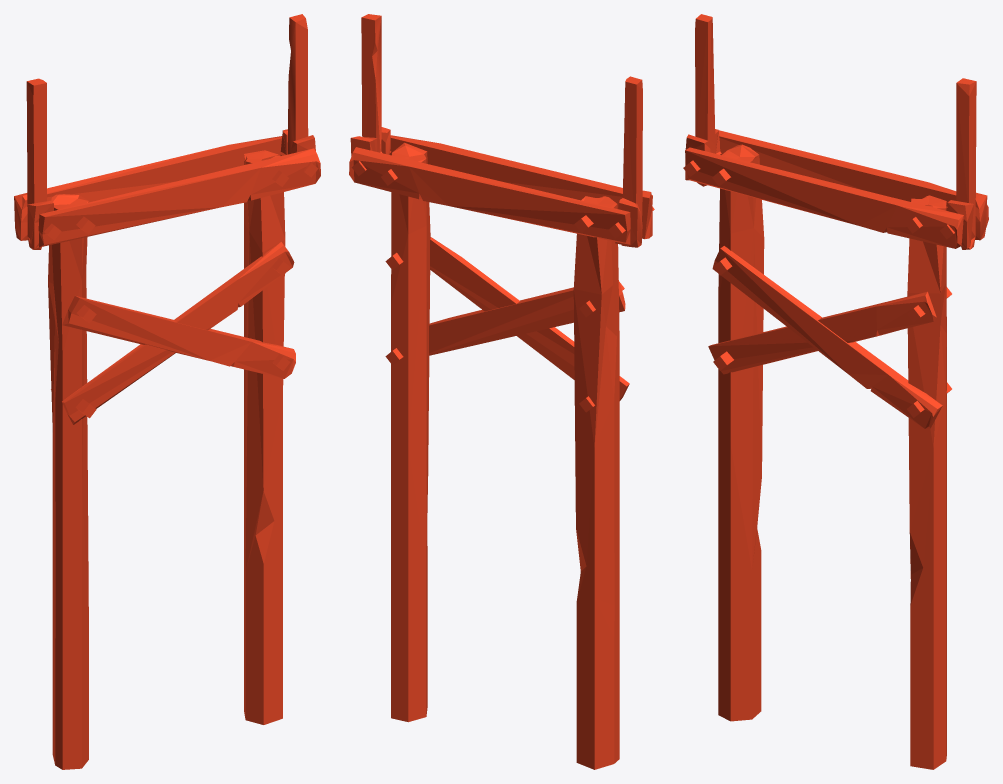
Rendered from SM_Pier_Pillars_Railing_A_City.fbx.
3 renders of one model, left to right at view 1: azimuth 30°, elevation 25°; view 2: azimuth 150°, elevation 25°; view 3: azimuth 330°, elevation 25°, orthographic.
Visible parts, largest first — view 1: SM_Pier_Pillars_Railing_A_City; view 2: SM_Pier_Pillars_Railing_A_City; view 3: SM_Pier_Pillars_Railing_A_City.
Part boxes in pixels (x1,y1,x2,y2): SM_Pier_Pillars_Railing_A_City: (14, 14, 320, 769); SM_Pier_Pillars_Railing_A_City: (349, 14, 654, 769); SM_Pier_Pillars_Railing_A_City: (683, 14, 988, 769).
Size of the model in its own units: 3.31 by 7.57 by 0.7537.
